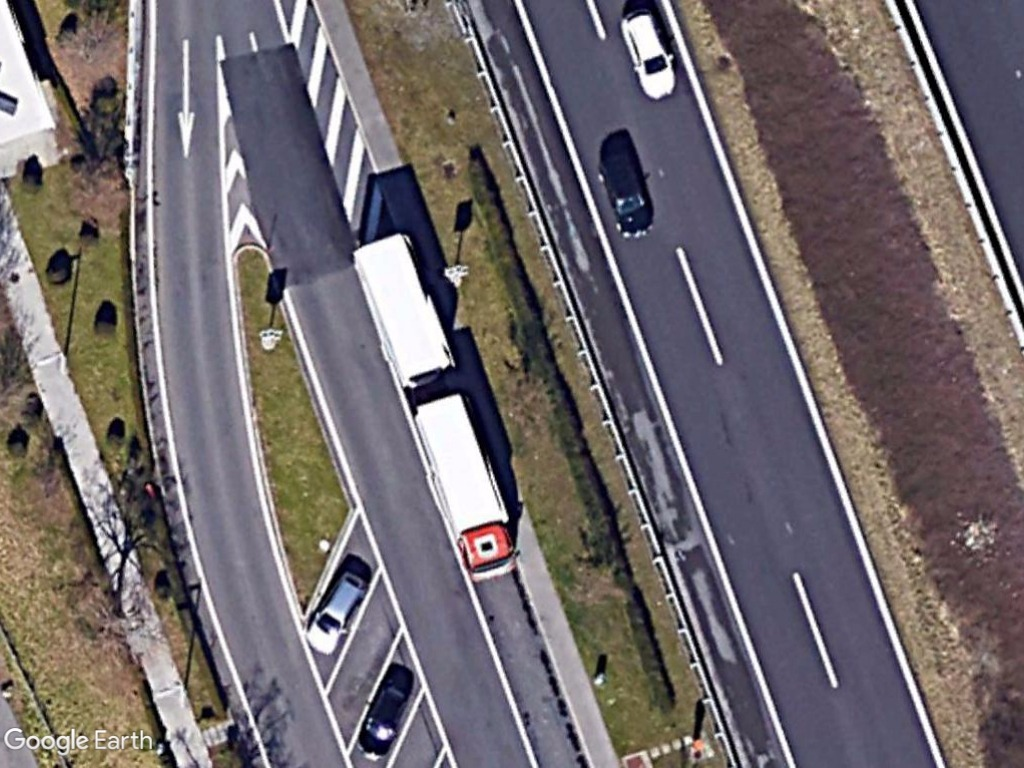car: (304, 562, 369, 660), (616, 7, 681, 101), (352, 670, 411, 765), (599, 150, 658, 243)
longvehicle: (349, 217, 519, 585)
truck: (409, 384, 516, 582)
